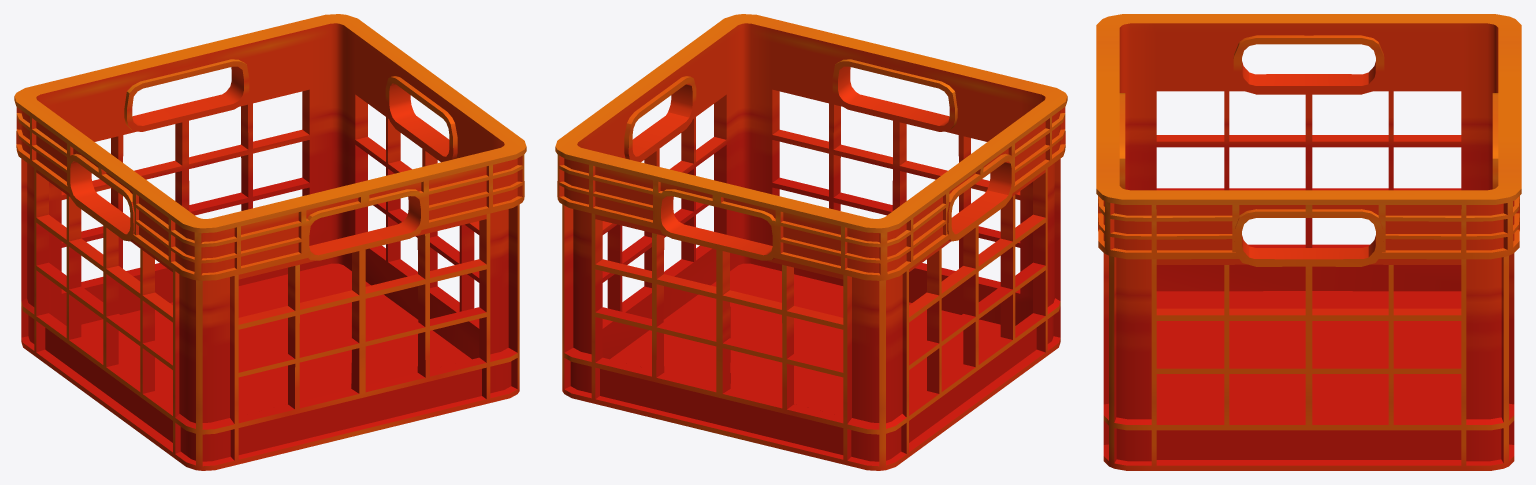
The model's file is Milk_Crate.glb.
3 views of the same model, side by side, from view 1: azimuth 30°, elevation 25°; view 2: azimuth 150°, elevation 25°; view 3: azimuth 270°, elevation 25° (orthographic). The views are drawn at different scales.
Parts seen in each view (by area): view 1: MilkCrate.001; view 2: MilkCrate.001; view 3: MilkCrate.001.
Part boxes in pixels (x1,y1,x2,y2): MilkCrate.001: (14, 14, 526, 470); MilkCrate.001: (555, 14, 1067, 470); MilkCrate.001: (1096, 14, 1521, 470).
Bounding box in the file's own units: 0.3848 × 0.2646 × 0.3723.
1 material, 1 textured.
